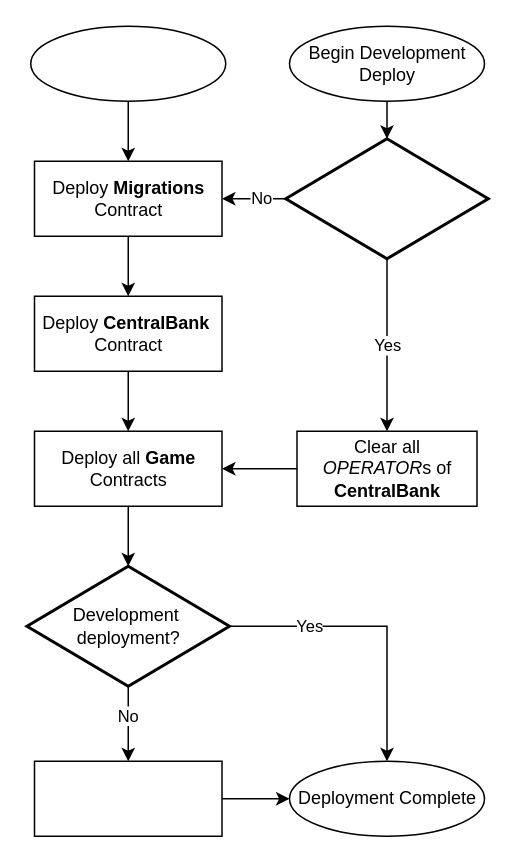
Some shapes in this 516 by 863 pixel diagram are drawn without their labels. The shapes that lost their labels are listed below. From the top down, each one's centre as x and y in pixels, then its label:
At point (127, 63): "Begin Production Deploy".
At point (386, 198): "CentralBank deployed?".
At point (127, 798): "Renounce ADMIN role of CentralBank".
